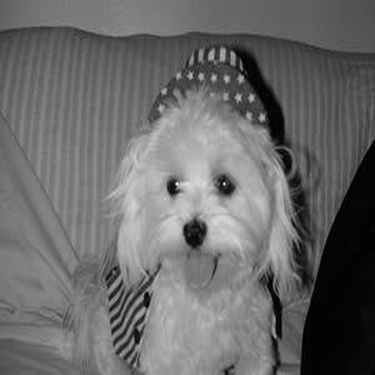dog: (66, 72, 327, 373)
